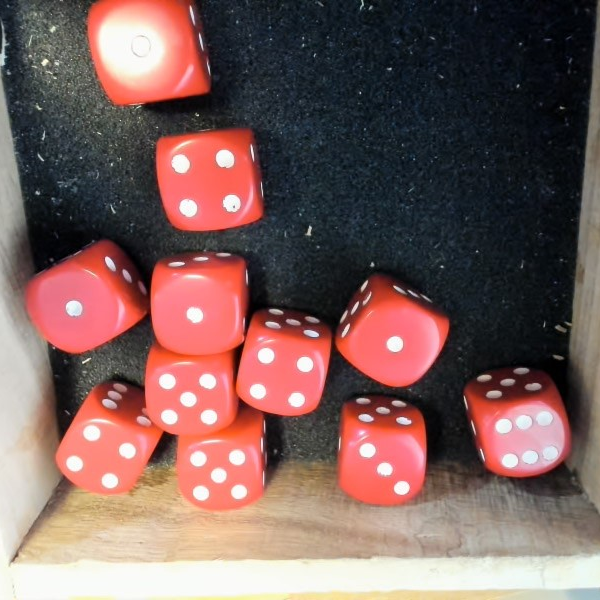red_die_pip1: (315, 259, 460, 401), (18, 232, 154, 364), (87, 1, 219, 114), (157, 250, 248, 349)
red_die_pip3: (337, 395, 429, 506)
red_die_pip4: (42, 364, 184, 513), (228, 299, 342, 421), (152, 119, 269, 234)
red_die_pip5: (173, 409, 279, 513), (145, 347, 238, 440)
red_die_pip6: (457, 354, 575, 482)
